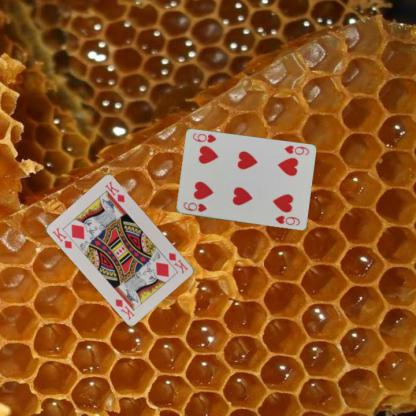6h: (281, 142, 310, 156), (180, 200, 208, 214)
Kd: (166, 250, 190, 275), (50, 225, 73, 250)
